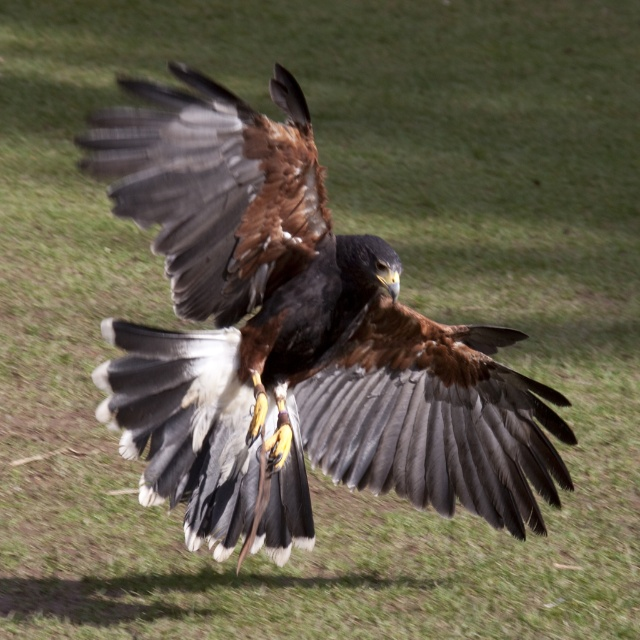Eagle: (74, 61, 584, 578)
